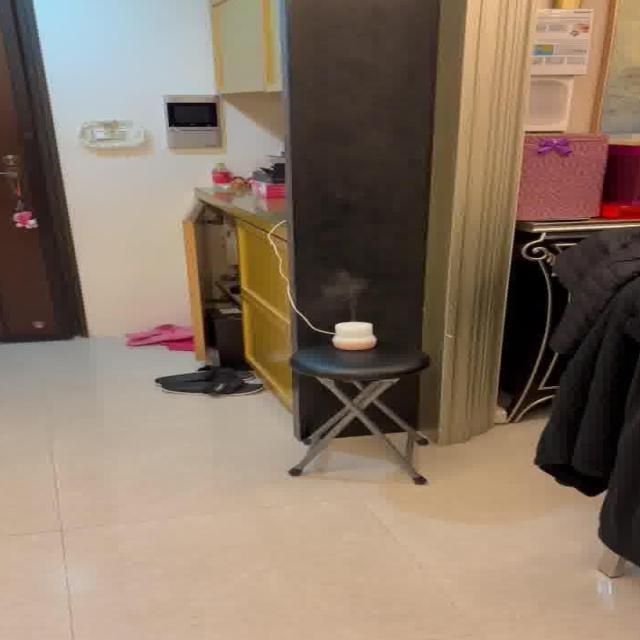fire: (320, 270, 377, 316)
